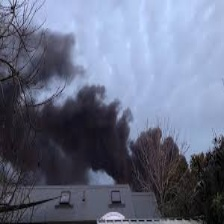smoke: (2, 27, 160, 186)
